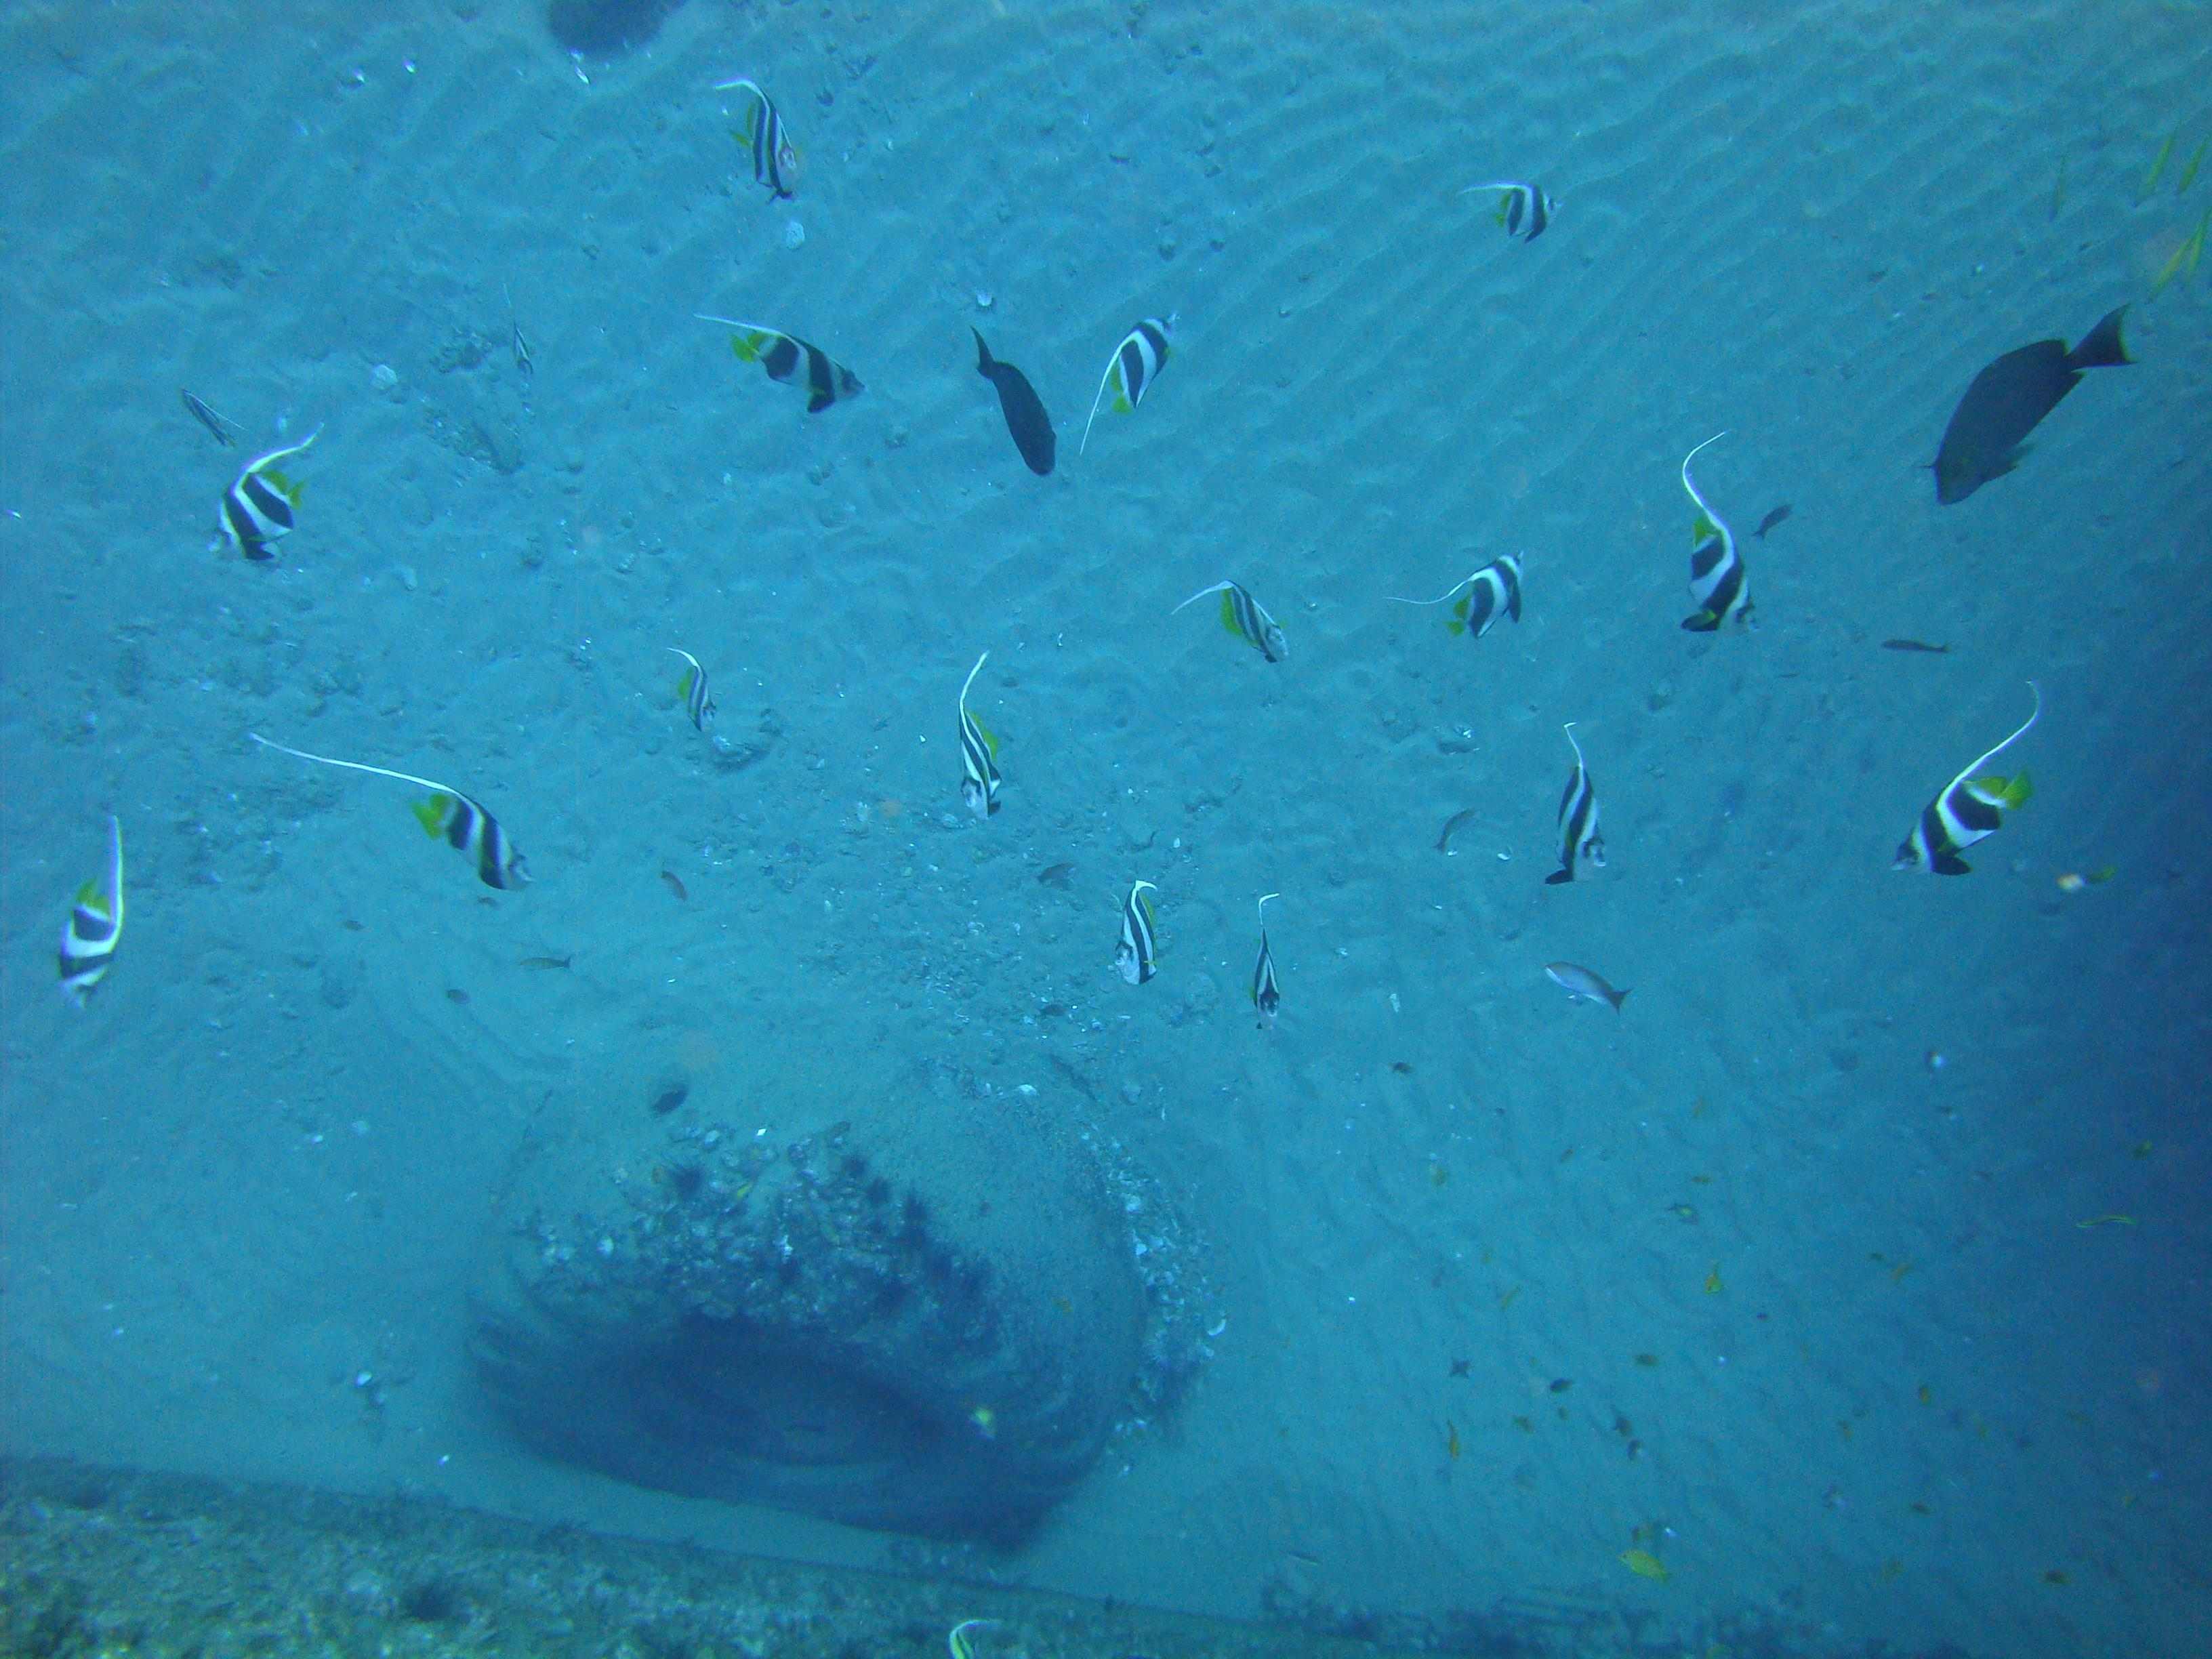Heniochus acuminatus: (226, 704, 596, 967), (1808, 660, 2083, 960), (14, 760, 199, 1065), (655, 268, 914, 483), (627, 47, 864, 242), (178, 397, 373, 620), (1519, 699, 1681, 962), (890, 641, 1047, 882), (1649, 390, 1792, 653), (1062, 282, 1202, 519), (1378, 528, 1602, 671), (1151, 559, 1371, 702), (1458, 138, 1601, 319), (631, 603, 744, 798), (1104, 849, 1193, 1053), (1237, 877, 1299, 1053)
